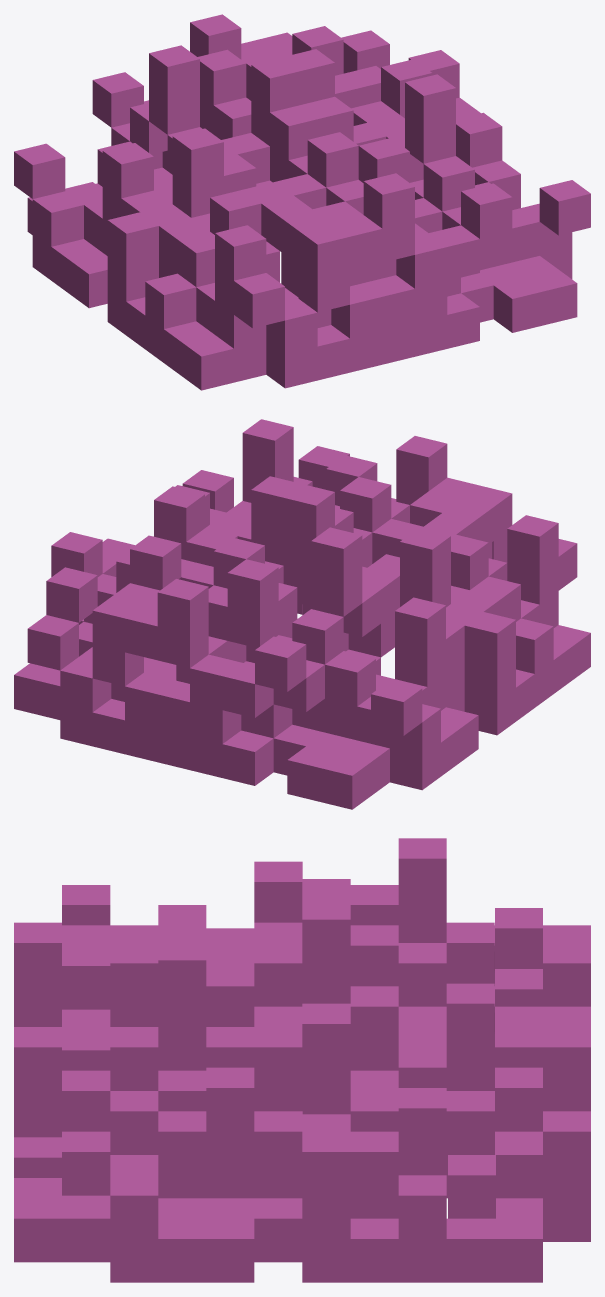
The model's file is coral.dae.
The picture shows the model from 3 angles, top to bottom: view 1: azimuth 30°, elevation 25°; view 2: azimuth 150°, elevation 25°; view 3: azimuth 270°, elevation 25°; orthographic projection. The views are drawn at different scales.
Visible parts, largest first — view 1: Cube.1; view 2: Cube.1; view 3: Cube.1.
Boxes of the visible parts, x1,y1,x2,y2 form: Cube.1: [14, 14, 590, 390]; Cube.1: [14, 419, 590, 809]; Cube.1: [14, 838, 590, 1282].
Size of the model in its own units: 0.6 by 0.3 by 0.6.
